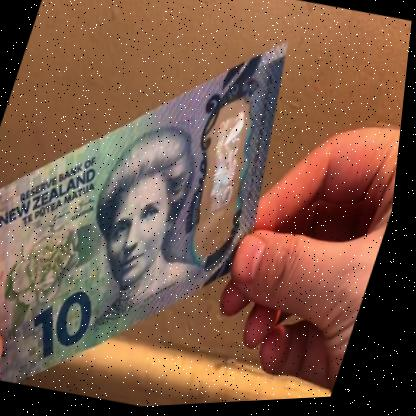10B: (190, 106, 265, 231)
